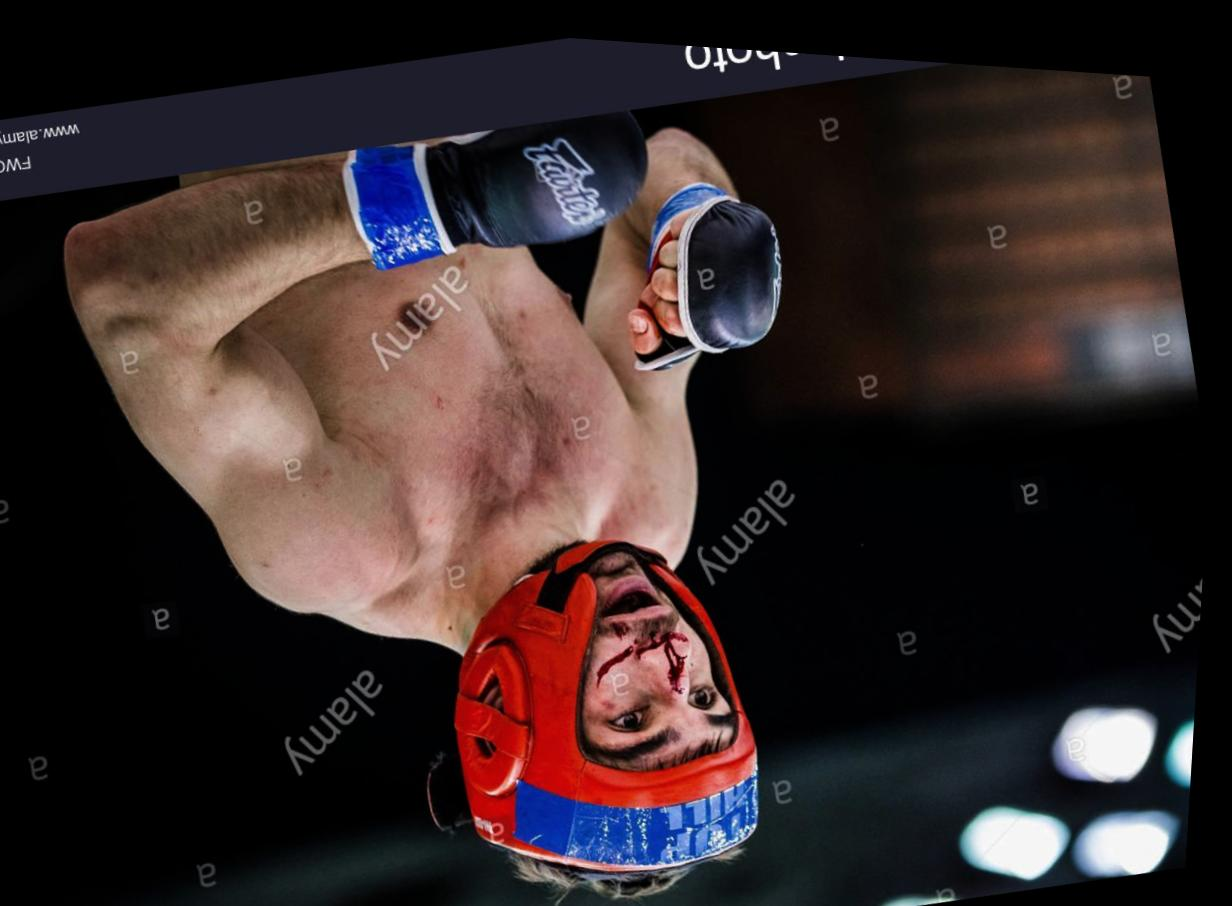Fire: (589, 611, 716, 697)
